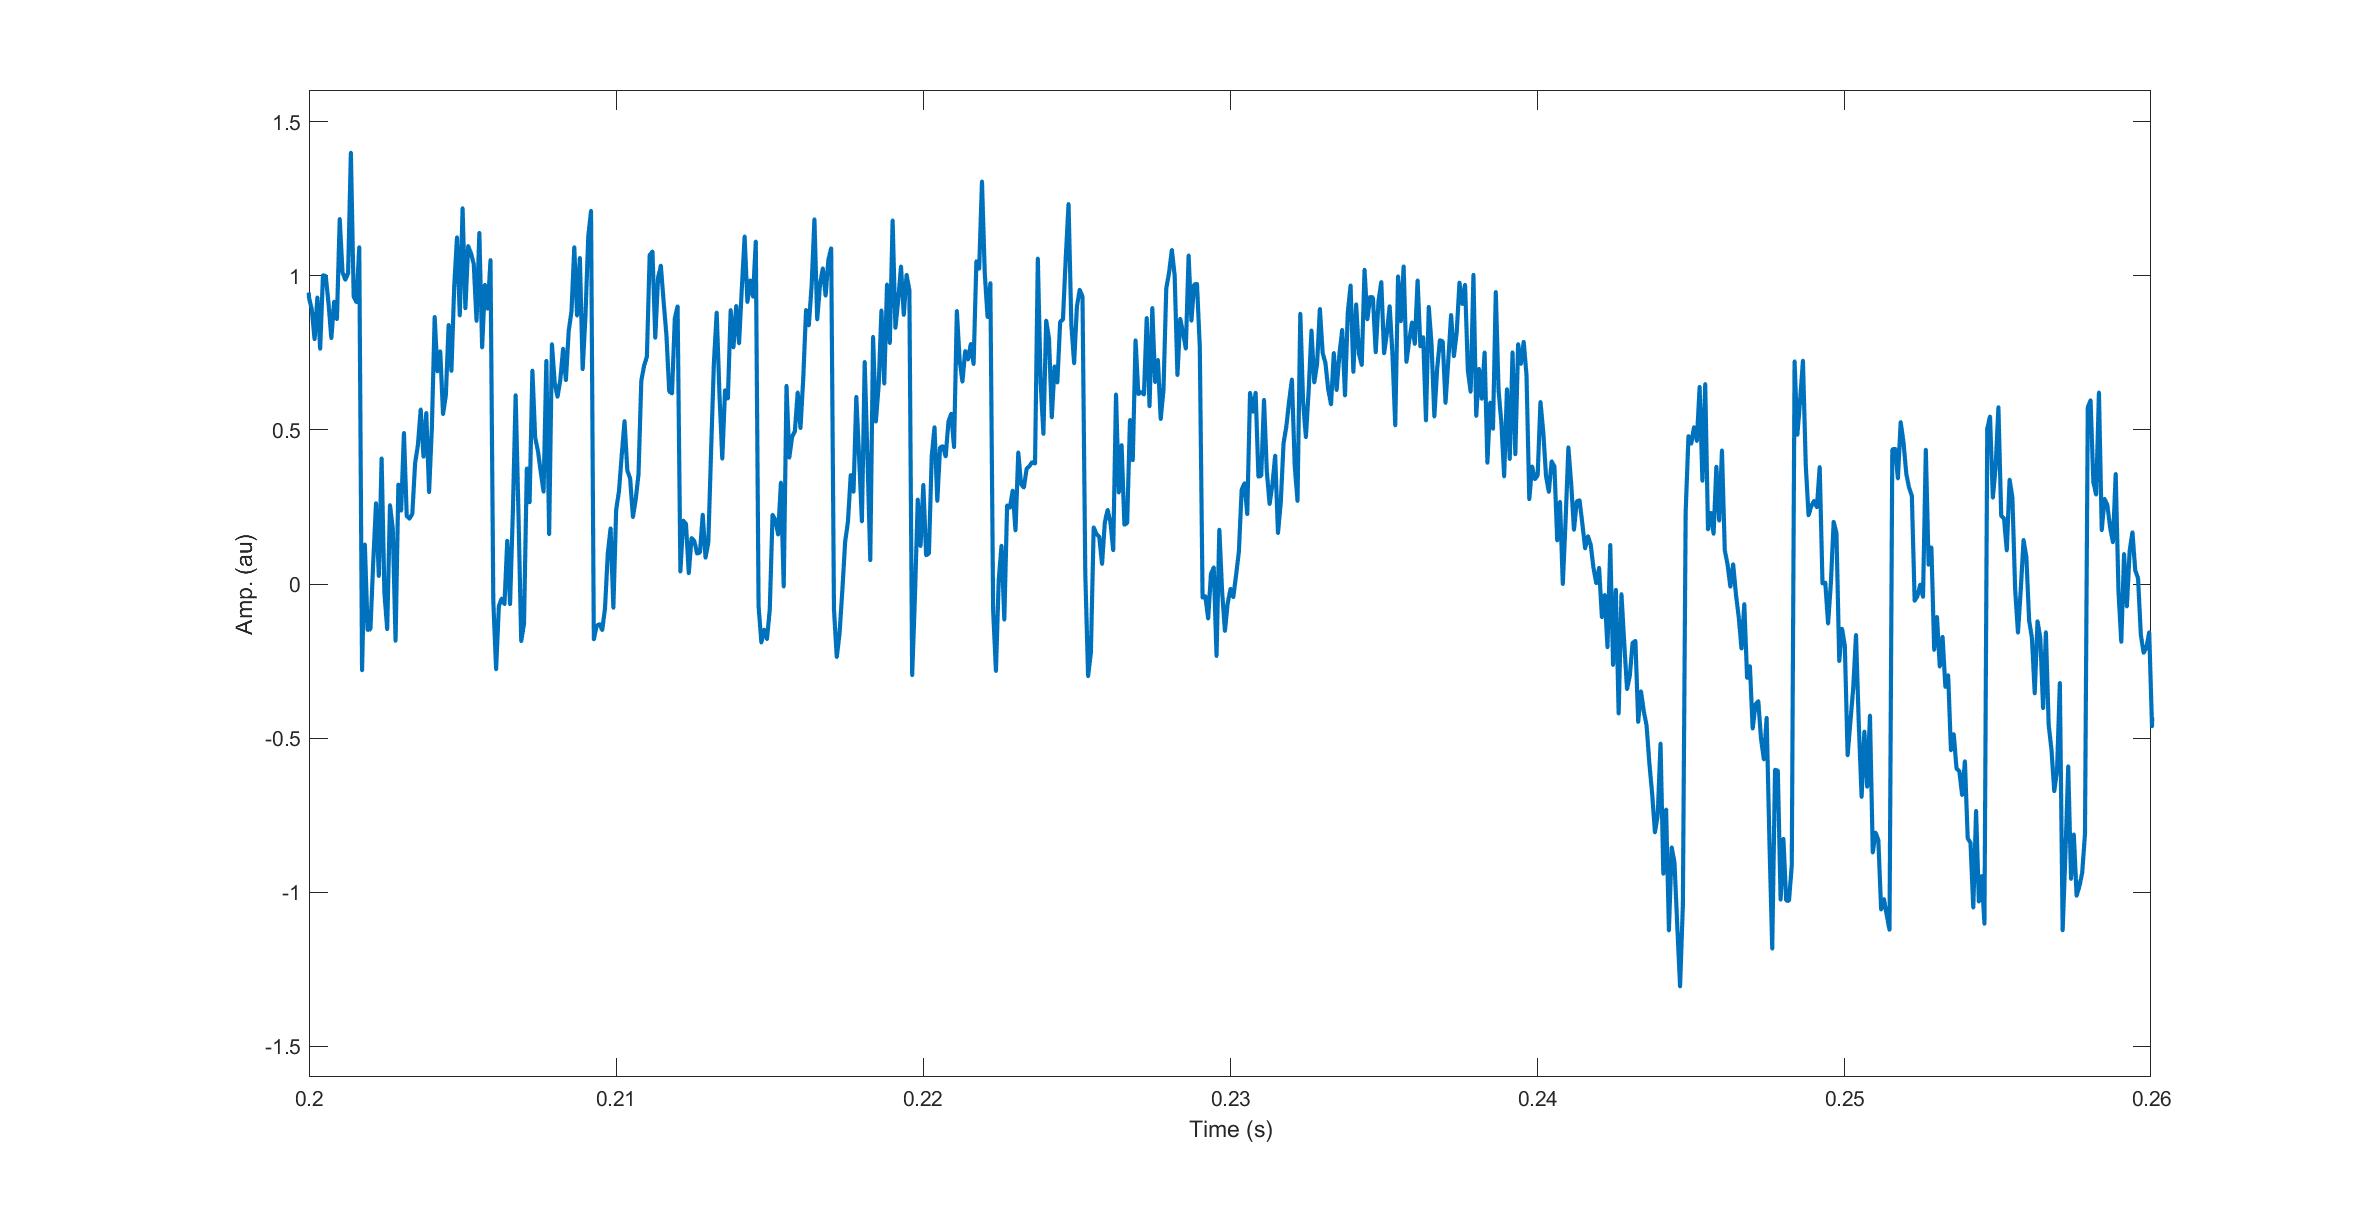negative_fringe: (1668, 370, 1773, 992), (1776, 343, 1873, 937), (1980, 390, 2069, 900), (1881, 412, 1971, 906), (2076, 380, 2140, 906)
positive_fringe: (383, 194, 502, 647), (1100, 228, 1211, 640), (1008, 191, 1099, 685), (514, 205, 599, 640), (600, 236, 688, 639), (934, 174, 1000, 674), (852, 210, 921, 678), (772, 211, 846, 650), (699, 208, 765, 640)
